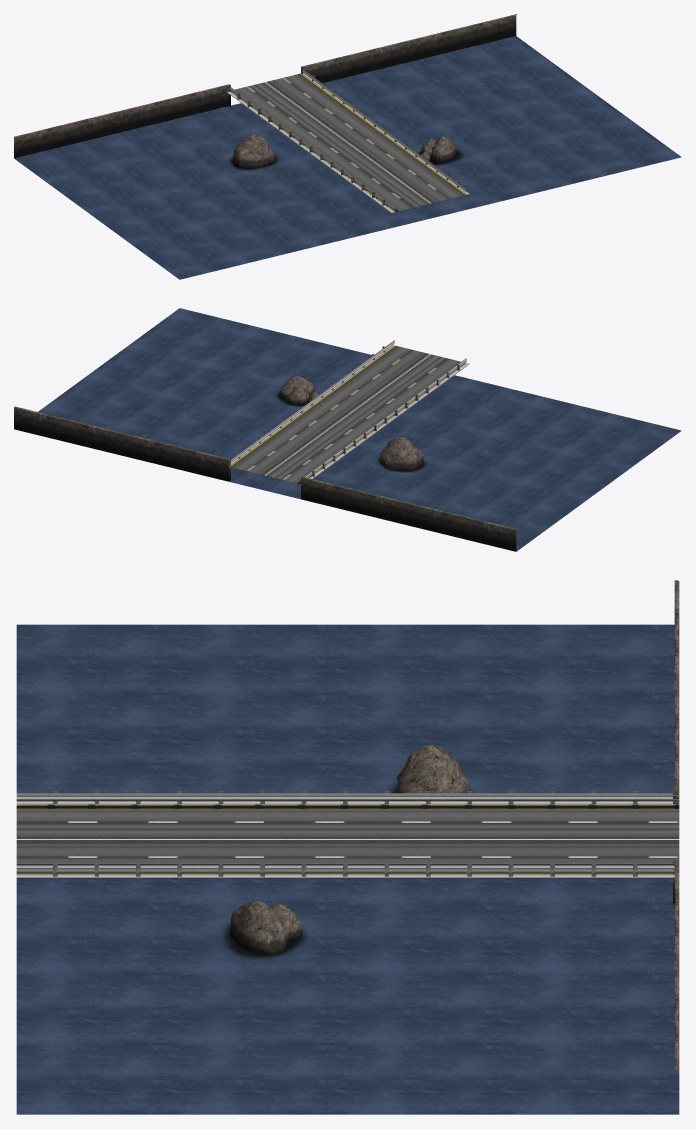
The model's file is scene5_start.FBX.
The picture shows the model from 3 angles, top to bottom: view 1: azimuth 30°, elevation 25°; view 2: azimuth 150°, elevation 25°; view 3: azimuth 270°, elevation 25°; orthographic projection. The views are drawn at different scales.
Visible parts, largest first — view 1: scene5_start, road008, relling007; view 2: scene5_start, road008, relling007; view 3: scene5_start, road008, relling007.
Part boxes in pixels (x1,y1,x2,y2): scene5_start: (14, 14, 681, 279); road008: (231, 73, 466, 211); relling007: (226, 67, 469, 212); scene5_start: (14, 308, 681, 551); road008: (229, 345, 465, 484); relling007: (230, 340, 469, 478); scene5_start: (16, 580, 679, 1114); road008: (16, 804, 679, 874); relling007: (16, 791, 679, 877).
Size of the model in its own units: 140 by 8.16 by 80.
